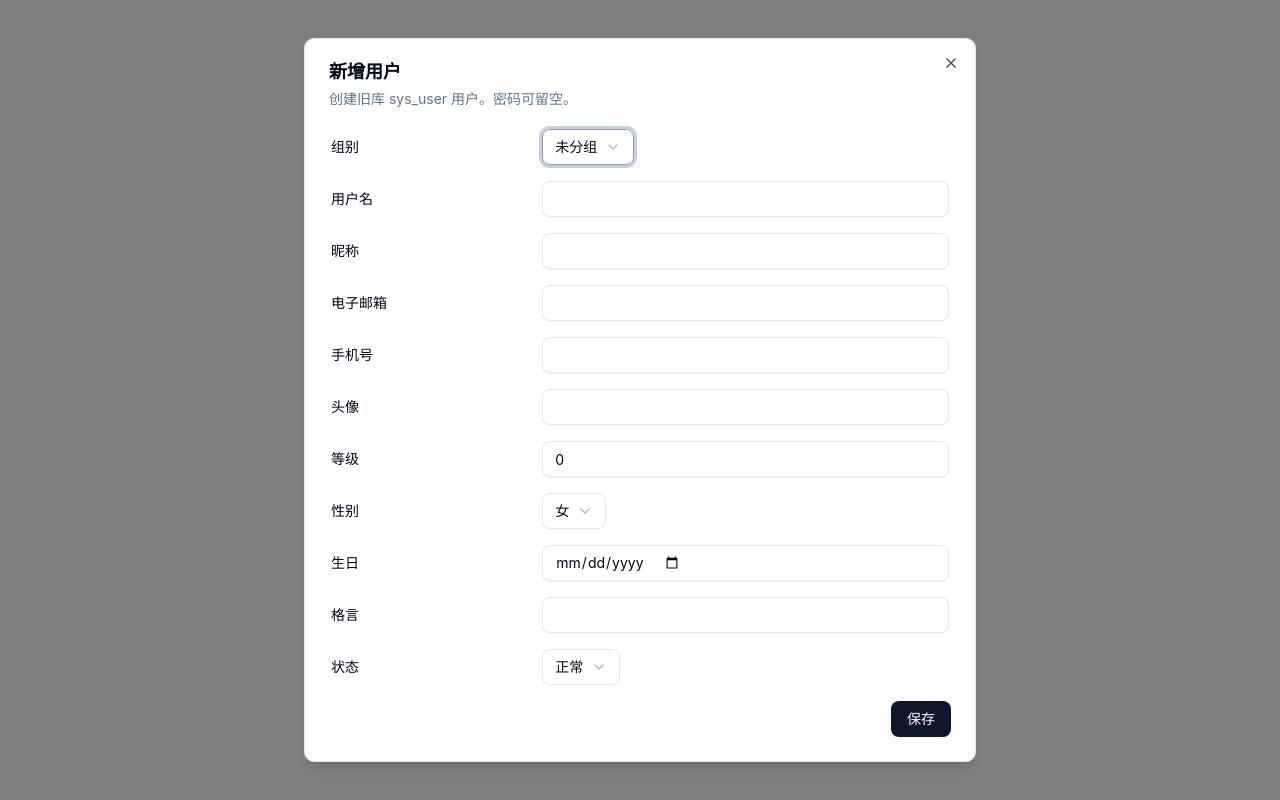
Test: UsersActionDialog › shows validation messages for required legacy fields
Click the button "保存".
click(921, 719)  # box [891, 701, 951, 737]
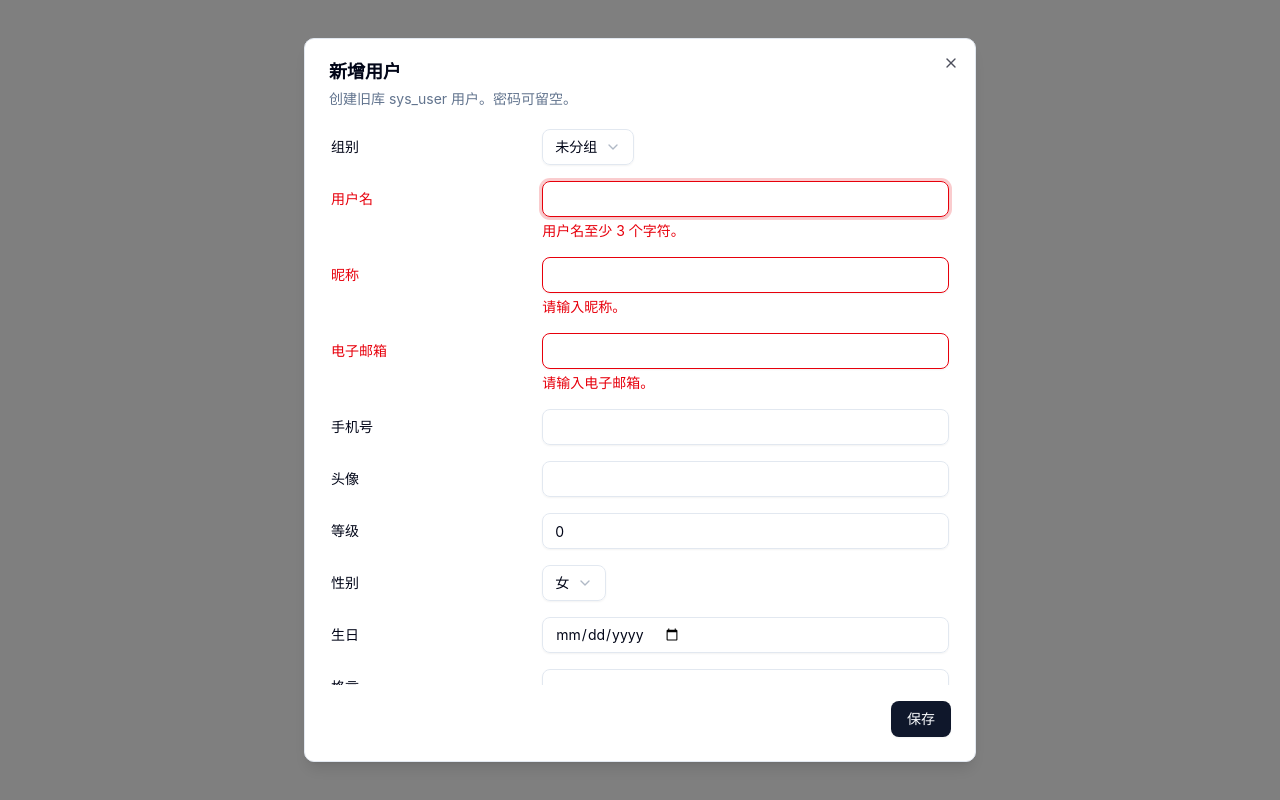
Result: the text "用户名至少 3 个字符。" is shown at [542, 222, 685, 239]
Result: the text "请输入昵称。" is shown at [542, 298, 626, 315]
Result: the text "请输入电子邮箱。" is shown at [542, 374, 654, 391]
